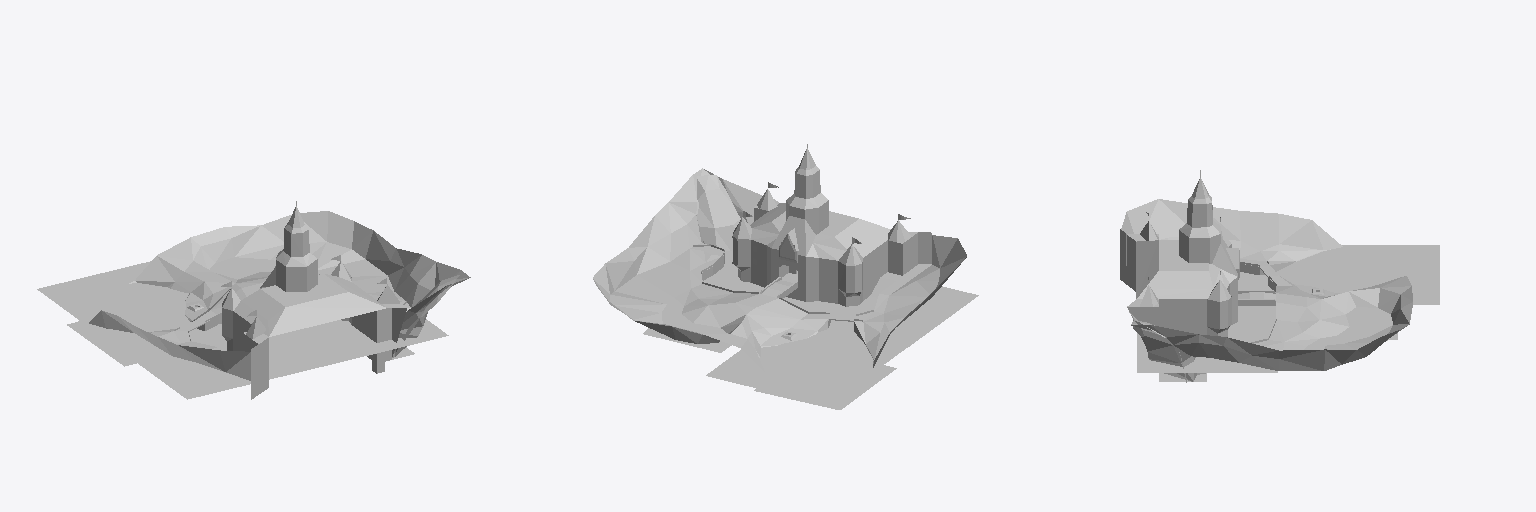
File: Peaches Castle.obj
The picture shows the model from 3 angles: view 1: azimuth 30°, elevation 25°; view 2: azimuth 150°, elevation 25°; view 3: azimuth 270°, elevation 25°; orthographic projection.
Parts seen in each view (by area): view 1: Shape_IndexedFaceSet_137_Shape_IndexedFaceSet.259, Shape_IndexedFaceSet_038_Shape_IndexedFaceSet.160, Shape_IndexedFaceSet_012_Shape_IndexedFaceSet.134, Shape_IndexedFaceSet_017_Shape_IndexedFaceSet.139, Shape_IndexedFaceSet_022_Shape_IndexedFaceSet.144, Shape_IndexedFaceSet_023_Shape_IndexedFaceSet.145, Shape_IndexedFaceSet_071_Shape_IndexedFaceSet.193, Shape_IndexedFaceSet_034_Shape_IndexedFaceSet.156, Shape_IndexedFaceSet_030_Shape_IndexedFaceSet.152, Shape_IndexedFaceSet_026_Shape_IndexedFaceSet.148, Shape_IndexedFaceSet_070_Shape_IndexedFaceSet.192; view 2: Shape_IndexedFaceSet_137_Shape_IndexedFaceSet.259, Shape_IndexedFaceSet_038_Shape_IndexedFaceSet.160, Shape_IndexedFaceSet_022_Shape_IndexedFaceSet.144, Shape_IndexedFaceSet_017_Shape_IndexedFaceSet.139, Shape_IndexedFaceSet_012_Shape_IndexedFaceSet.134, Shape_IndexedFaceSet_023_Shape_IndexedFaceSet.145, Shape_IndexedFaceSet_136_Shape_IndexedFaceSet.258, Shape_IndexedFaceSet_030_Shape_IndexedFaceSet.152, Shape_IndexedFaceSet_071_Shape_IndexedFaceSet.193, Shape_IndexedFaceSet_026_Shape_IndexedFaceSet.148, Shape_IndexedFaceSet_070_Shape_IndexedFaceSet.192, Shape_IndexedFaceSet_034_Shape_IndexedFaceSet.156 (+1 smaller); view 3: Shape_IndexedFaceSet_038_Shape_IndexedFaceSet.160, Shape_IndexedFaceSet_137_Shape_IndexedFaceSet.259, Shape_IndexedFaceSet_012_Shape_IndexedFaceSet.134, Shape_IndexedFaceSet_017_Shape_IndexedFaceSet.139, Shape_IndexedFaceSet_023_Shape_IndexedFaceSet.145, Shape_IndexedFaceSet_022_Shape_IndexedFaceSet.144, Shape_IndexedFaceSet_071_Shape_IndexedFaceSet.193, Shape_IndexedFaceSet_034_Shape_IndexedFaceSet.156, Shape_IndexedFaceSet_030_Shape_IndexedFaceSet.152, Shape_IndexedFaceSet_070_Shape_IndexedFaceSet.192.
Boxes of the visible parts, x1,y1,x2,y2 form: Shape_IndexedFaceSet_137_Shape_IndexedFaceSet.259: [37, 261, 448, 399]; Shape_IndexedFaceSet_038_Shape_IndexedFaceSet.160: [101, 211, 459, 380]; Shape_IndexedFaceSet_012_Shape_IndexedFaceSet.134: [222, 261, 399, 339]; Shape_IndexedFaceSet_017_Shape_IndexedFaceSet.139: [222, 303, 406, 399]; Shape_IndexedFaceSet_022_Shape_IndexedFaceSet.144: [151, 242, 410, 347]; Shape_IndexedFaceSet_023_Shape_IndexedFaceSet.145: [174, 257, 275, 350]; Shape_IndexedFaceSet_071_Shape_IndexedFaceSet.193: [276, 228, 317, 291]; Shape_IndexedFaceSet_034_Shape_IndexedFaceSet.156: [89, 270, 470, 357]; Shape_IndexedFaceSet_030_Shape_IndexedFaceSet.152: [149, 272, 259, 332]; Shape_IndexedFaceSet_026_Shape_IndexedFaceSet.148: [67, 321, 136, 366]; Shape_IndexedFaceSet_070_Shape_IndexedFaceSet.192: [276, 206, 316, 266]; Shape_IndexedFaceSet_137_Shape_IndexedFaceSet.259: [703, 250, 978, 405]; Shape_IndexedFaceSet_038_Shape_IndexedFaceSet.160: [593, 175, 966, 371]; Shape_IndexedFaceSet_022_Shape_IndexedFaceSet.144: [610, 243, 939, 332]; Shape_IndexedFaceSet_017_Shape_IndexedFaceSet.139: [733, 199, 931, 306]; Shape_IndexedFaceSet_012_Shape_IndexedFaceSet.134: [733, 189, 911, 265]; Shape_IndexedFaceSet_023_Shape_IndexedFaceSet.145: [643, 247, 921, 352]; Shape_IndexedFaceSet_136_Shape_IndexedFaceSet.258: [697, 175, 740, 251]; Shape_IndexedFaceSet_030_Shape_IndexedFaceSet.152: [721, 303, 889, 359]; Shape_IndexedFaceSet_071_Shape_IndexedFaceSet.193: [786, 170, 828, 234]; Shape_IndexedFaceSet_026_Shape_IndexedFaceSet.148: [754, 365, 896, 409]; Shape_IndexedFaceSet_070_Shape_IndexedFaceSet.192: [787, 148, 827, 209]; Shape_IndexedFaceSet_034_Shape_IndexedFaceSet.156: [693, 168, 888, 367]; Shape_IndexedFaceSet_038_Shape_IndexedFaceSet.160: [1121, 199, 1412, 370]; Shape_IndexedFaceSet_137_Shape_IndexedFaceSet.259: [1137, 245, 1439, 372]; Shape_IndexedFaceSet_012_Shape_IndexedFaceSet.134: [1136, 221, 1238, 306]; Shape_IndexedFaceSet_017_Shape_IndexedFaceSet.139: [1120, 229, 1238, 336]; Shape_IndexedFaceSet_023_Shape_IndexedFaceSet.145: [1240, 259, 1397, 346]; Shape_IndexedFaceSet_022_Shape_IndexedFaceSet.144: [1161, 237, 1392, 350]; Shape_IndexedFaceSet_071_Shape_IndexedFaceSet.193: [1179, 200, 1220, 263]; Shape_IndexedFaceSet_034_Shape_IndexedFaceSet.156: [1131, 220, 1342, 381]; Shape_IndexedFaceSet_030_Shape_IndexedFaceSet.152: [1268, 244, 1355, 313]; Shape_IndexedFaceSet_070_Shape_IndexedFaceSet.192: [1179, 178, 1220, 237].
Bounding box in the file's own units: 16.44 × 9.96 × 16.22.